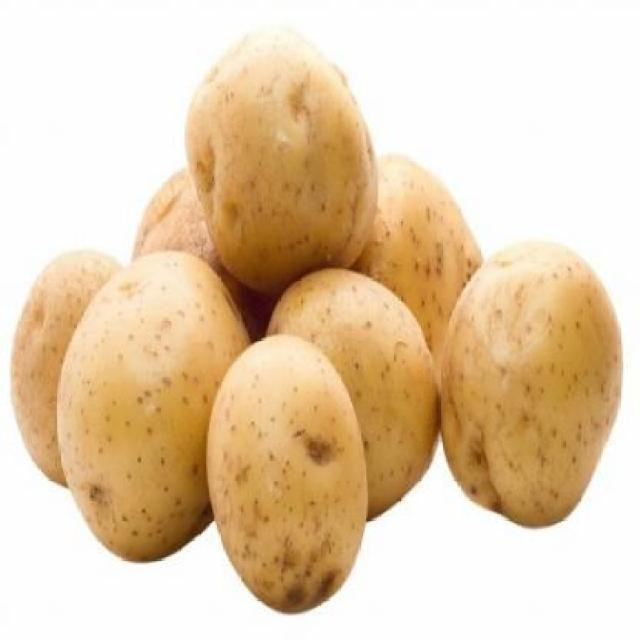Potato: (53, 251, 256, 565), (435, 239, 624, 531), (183, 24, 381, 301), (205, 334, 369, 617), (267, 269, 441, 522), (358, 153, 484, 357)
